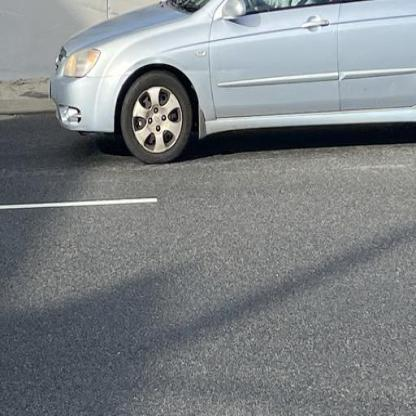Tire: (120, 70, 192, 164)
